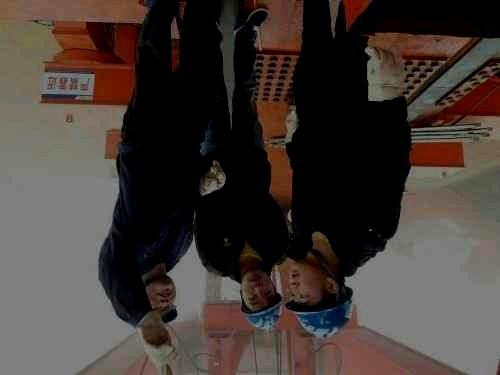helmet: (285, 263, 354, 339), (239, 270, 283, 329), (145, 276, 178, 323)
